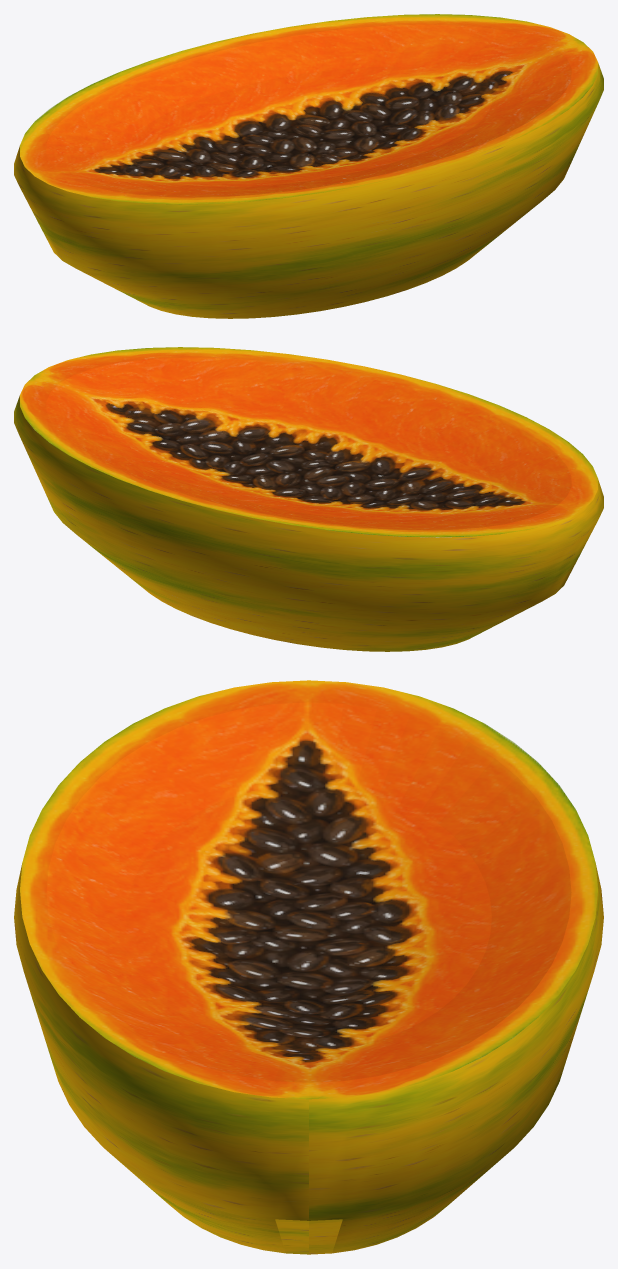
File: papaya_half-kO2KvaAS.glb
The picture shows the model from 3 angles, top to bottom: view 1: azimuth 30°, elevation 25°; view 2: azimuth 150°, elevation 25°; view 3: azimuth 270°, elevation 25°; orthographic projection. The views are drawn at different scales.
Parts seen in each view (by area): view 1: HI_papaya_half; view 2: HI_papaya_half; view 3: HI_papaya_half.
Part boxes in pixels (left/top/right/bottom): HI_papaya_half: left=14, top=14, right=603, bottom=318; HI_papaya_half: left=14, top=347, right=603, bottom=651; HI_papaya_half: left=14, top=680, right=603, bottom=1254.
Bounding box in the file's own units: 2.4 × 0.72 × 1.4.
Materials: 1 (1 with a texture image).
